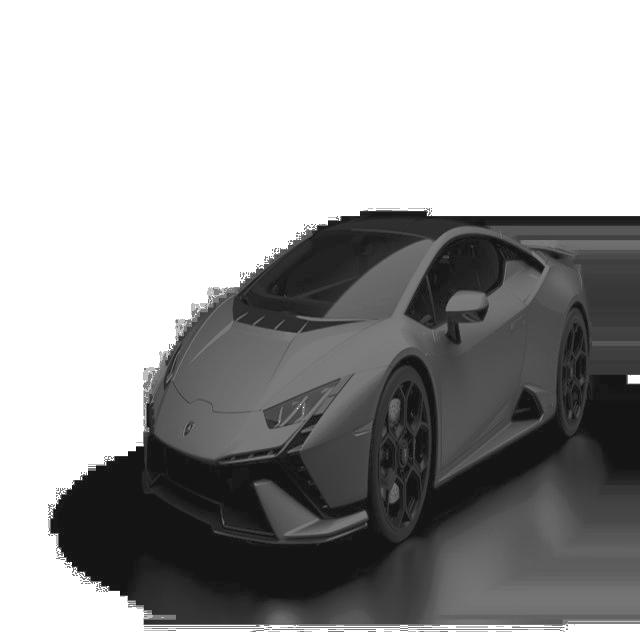Car: (136, 178, 596, 583)
